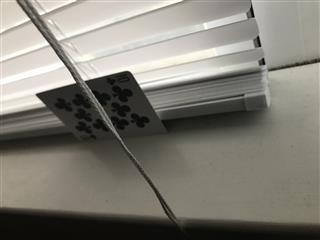TenOfClubs: (34, 70, 168, 144)
